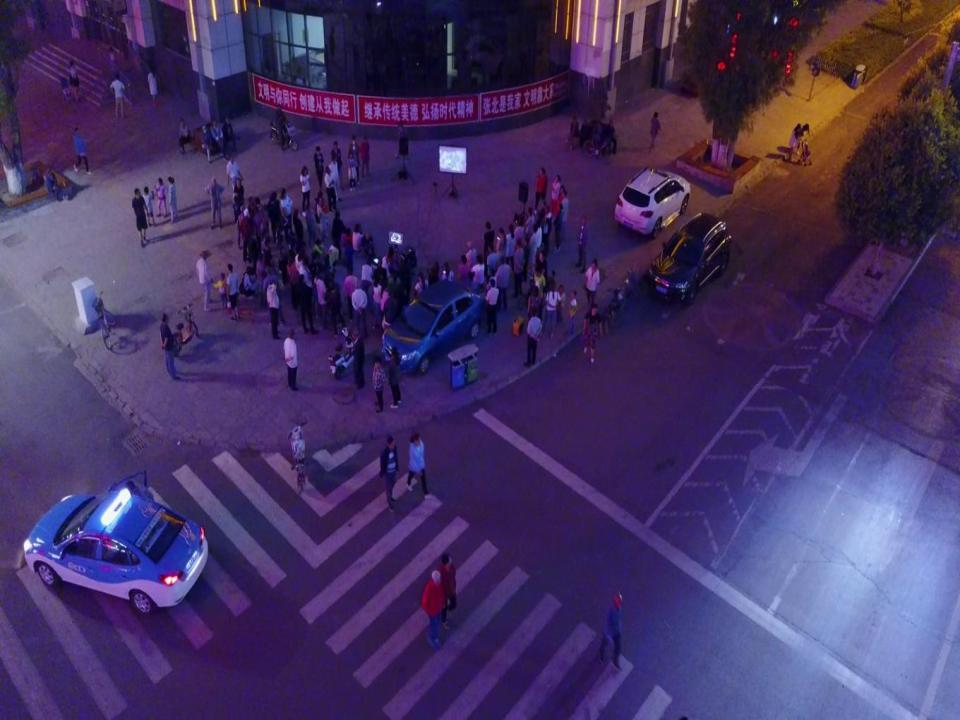car: (22, 468, 208, 616), (379, 278, 486, 374), (646, 213, 732, 307), (614, 169, 691, 239)
